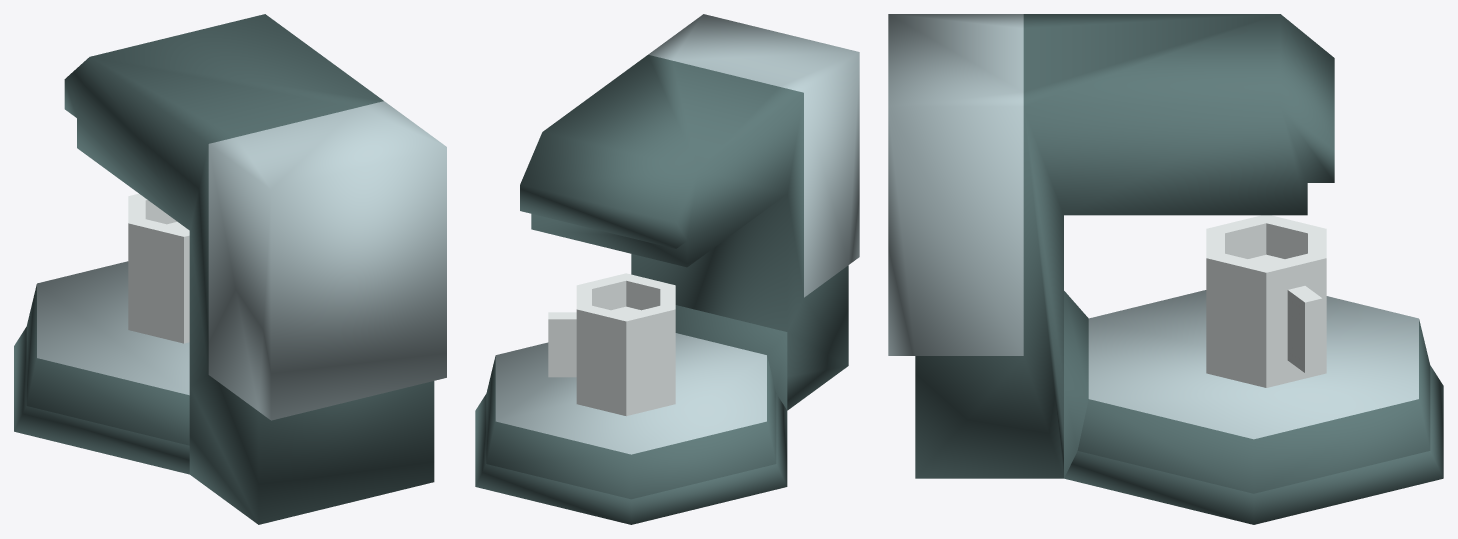
Rendered from Kitchen_Coffee_Machine.glb.
3 renders of one model, left to right at view 1: azimuth 30°, elevation 25°; view 2: azimuth 150°, elevation 25°; view 3: azimuth 270°, elevation 25°, orthographic. The views are drawn at different scales.
Parts seen in each view (by area): view 1: kitchenCoffeeMachine; view 2: kitchenCoffeeMachine; view 3: kitchenCoffeeMachine.
Part boxes in pixels (x1,y1,x2,y2): kitchenCoffeeMachine: (14, 14, 446, 524); kitchenCoffeeMachine: (475, 14, 859, 524); kitchenCoffeeMachine: (888, 14, 1443, 524).
Size of the model in its own units: 0.1895 by 0.1775 by 0.2402.
